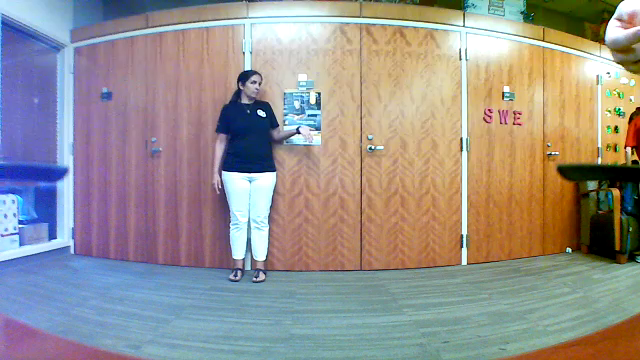land: (291, 121, 324, 150)
